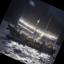fishing boat: (3, 8, 64, 58)
